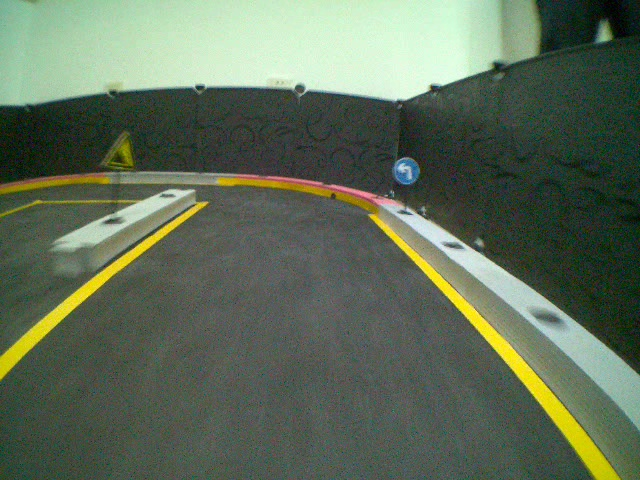fast: (100, 129, 139, 170)
turn: (393, 156, 422, 186)
